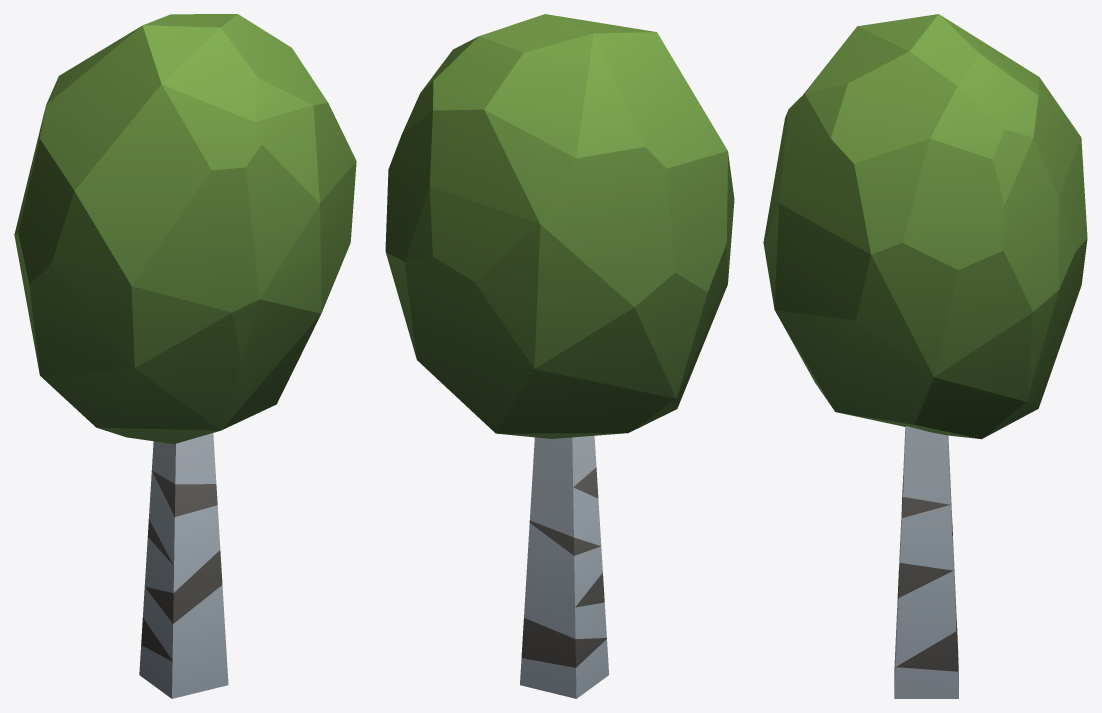
The model's file is Tree_3.fbx.
The picture shows the model from 3 angles, left to right: view 1: azimuth 30°, elevation 25°; view 2: azimuth 150°, elevation 25°; view 3: azimuth 270°, elevation 25°; orthographic projection.
Parts seen in each view (by area): view 1: Tree_3; view 2: Tree_3; view 3: Tree_3.
Part boxes in pixels (x1=…): Tree_3: x1=14, y1=14, x2=356, y2=698; Tree_3: x1=385, y1=14, x2=734, y2=698; Tree_3: x1=763, y1=14, x2=1087, y2=698.
Size of the model in its own units: 340 by 718 by 322.
